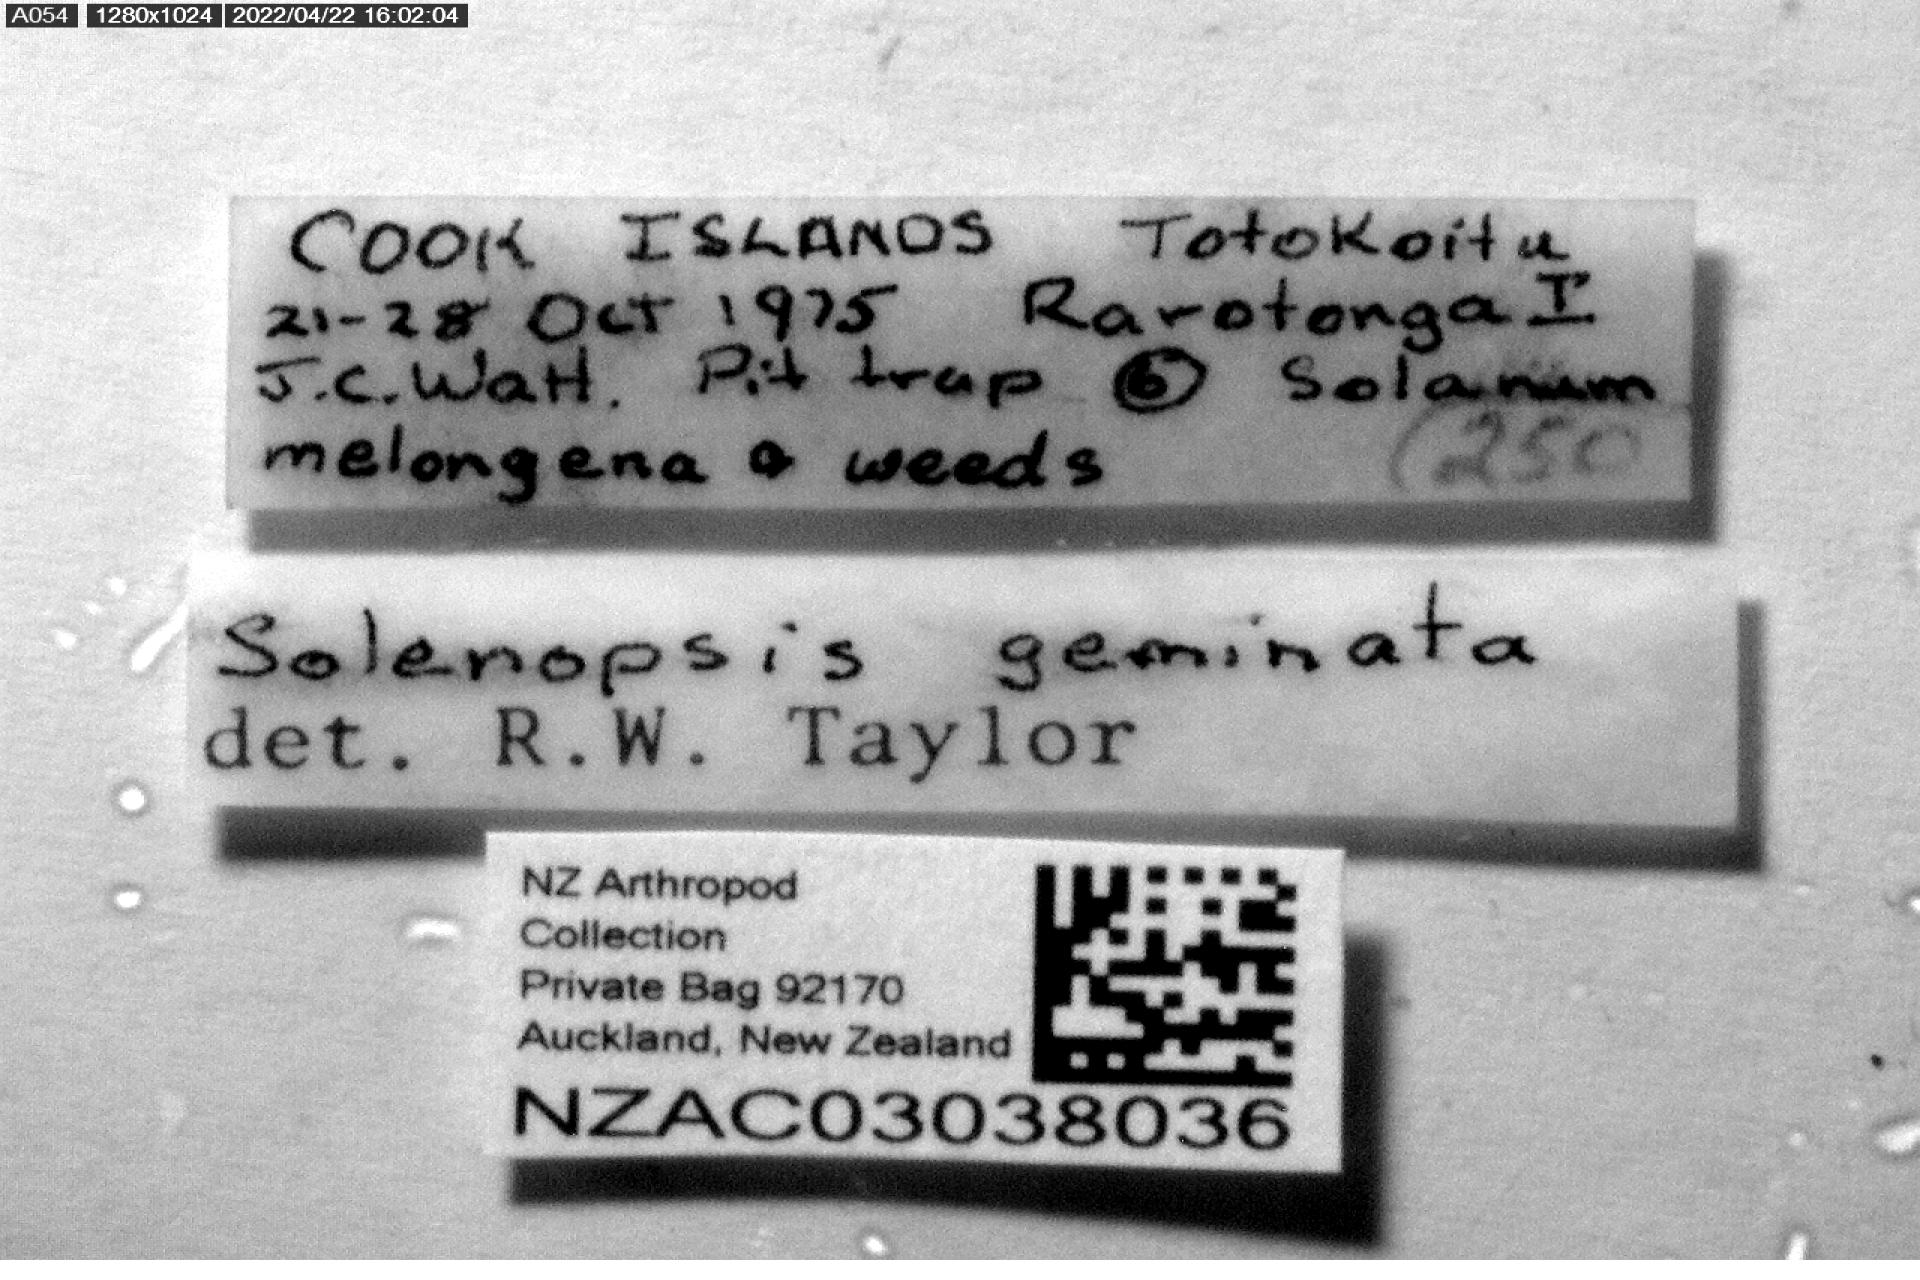hand_label: (229, 197, 1691, 510)
mixed_label: (187, 553, 1740, 829)
typed_label: (484, 831, 1343, 1171)
